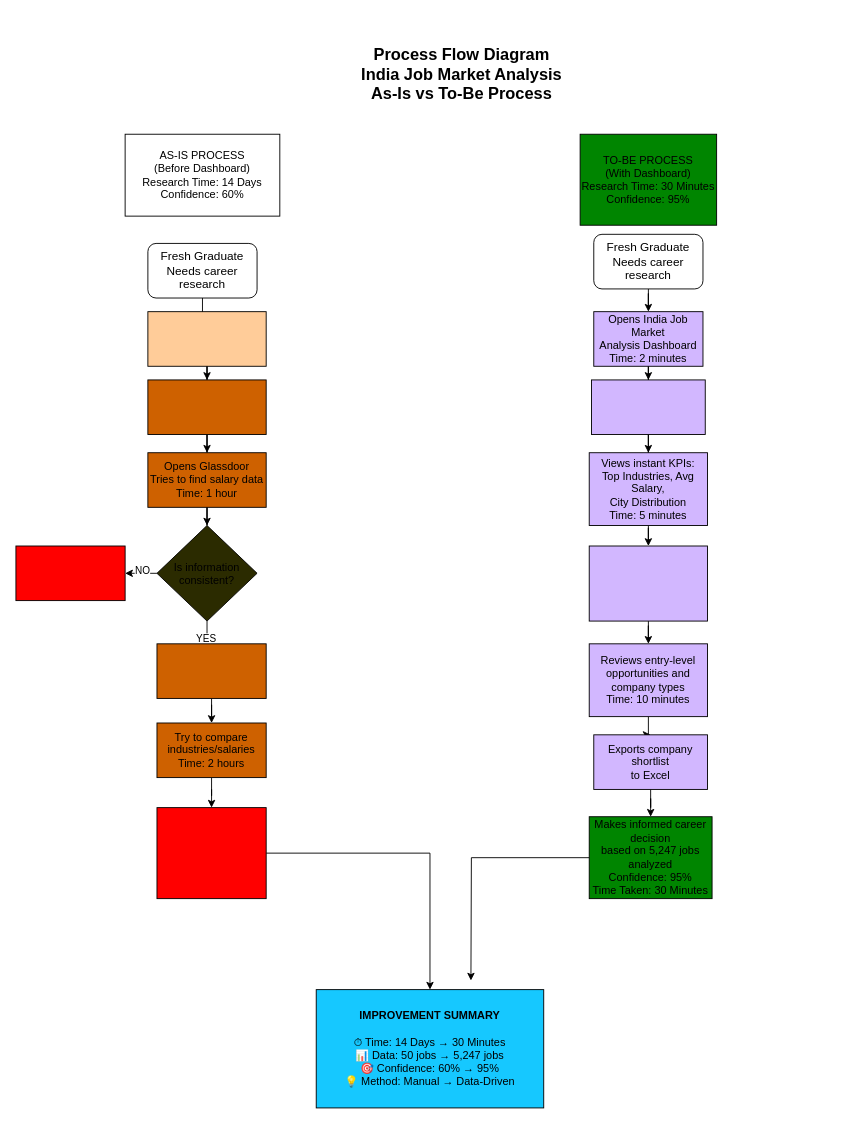
This 851x1124 diagram has some shape labels left out. Here are the shapes that lost their labels. From the top down, the centre of each, then its label:
At point (206, 338): "Opens Naukri.com Manually browses listings Time: 2-3 hours".
At point (206, 407): "Opens Linkdein Manually checks jobs Time: 1 hour".
At point (648, 407): "Selects filters: City + Sector + Experience Time: 1 minute".
At point (70, 573): "Conflicting data found Start again tomorrow".
At point (648, 583): "Compares salary benchmarks across 15 sectors Time: 5 minutes".
At point (211, 670): "Copy data to Excel manually Time: 1-2 hours".
At point (211, 853): "Make career decision with limited data Confidence: 60% Time Taken: 14 Days".
